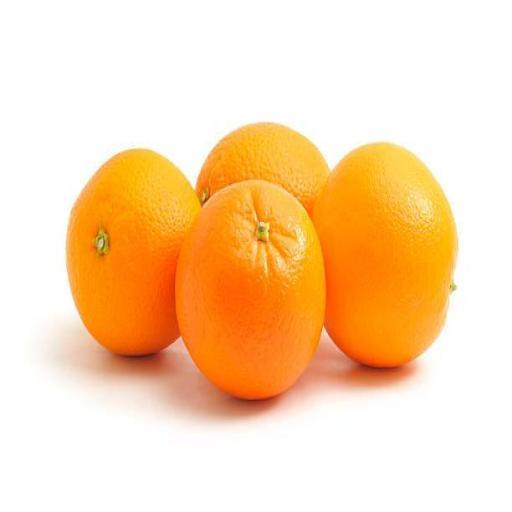orange: (176, 181, 325, 398), (313, 144, 457, 366), (67, 149, 199, 355)
